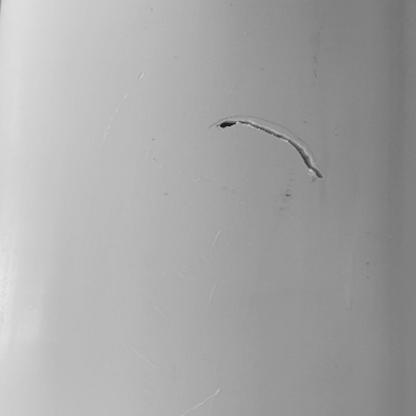fengxi: (219, 119, 325, 179)
